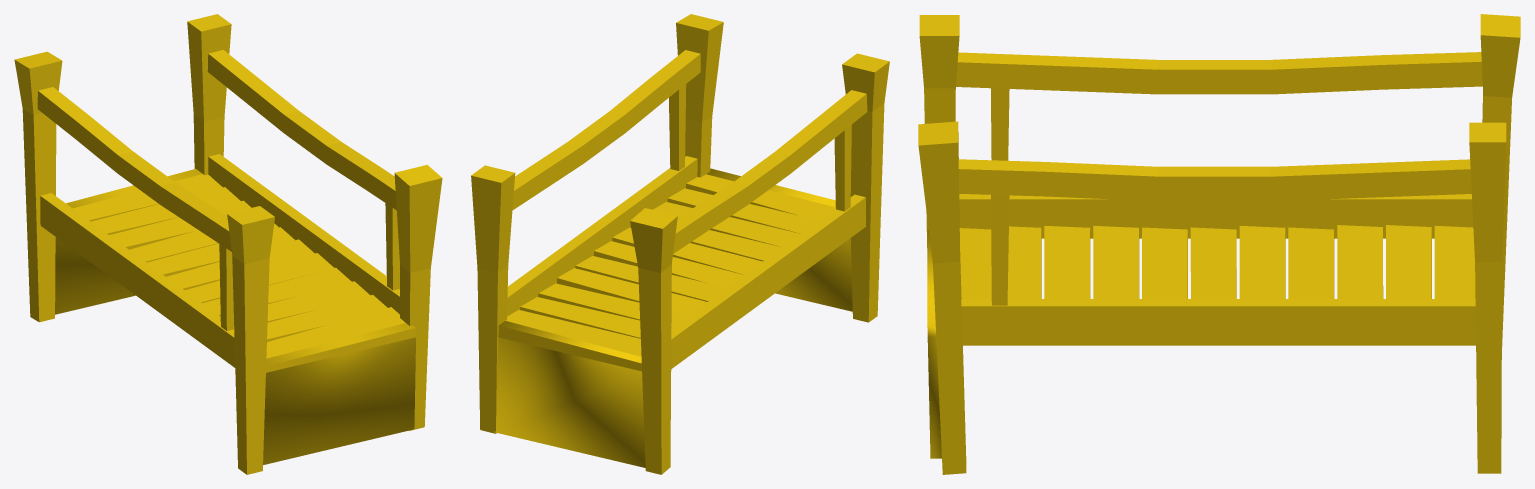
The model's file is Bridgex4x2.fbx.
3 renders of one model, left to right at view 1: azimuth 30°, elevation 25°; view 2: azimuth 150°, elevation 25°; view 3: azimuth 270°, elevation 25°, orthographic. The views are drawn at different scales.
Parts seen in each view (by area): view 1: Bridge_04; view 2: Bridge_04; view 3: Bridge_04.
Part boxes in pixels (box(x1,y1,x2,y2)): Bridge_04: box(14, 14, 442, 474); Bridge_04: box(471, 14, 889, 474); Bridge_04: box(918, 14, 1520, 474).
Size of the model in its own units: 2.15 by 2.63 by 4.25.
